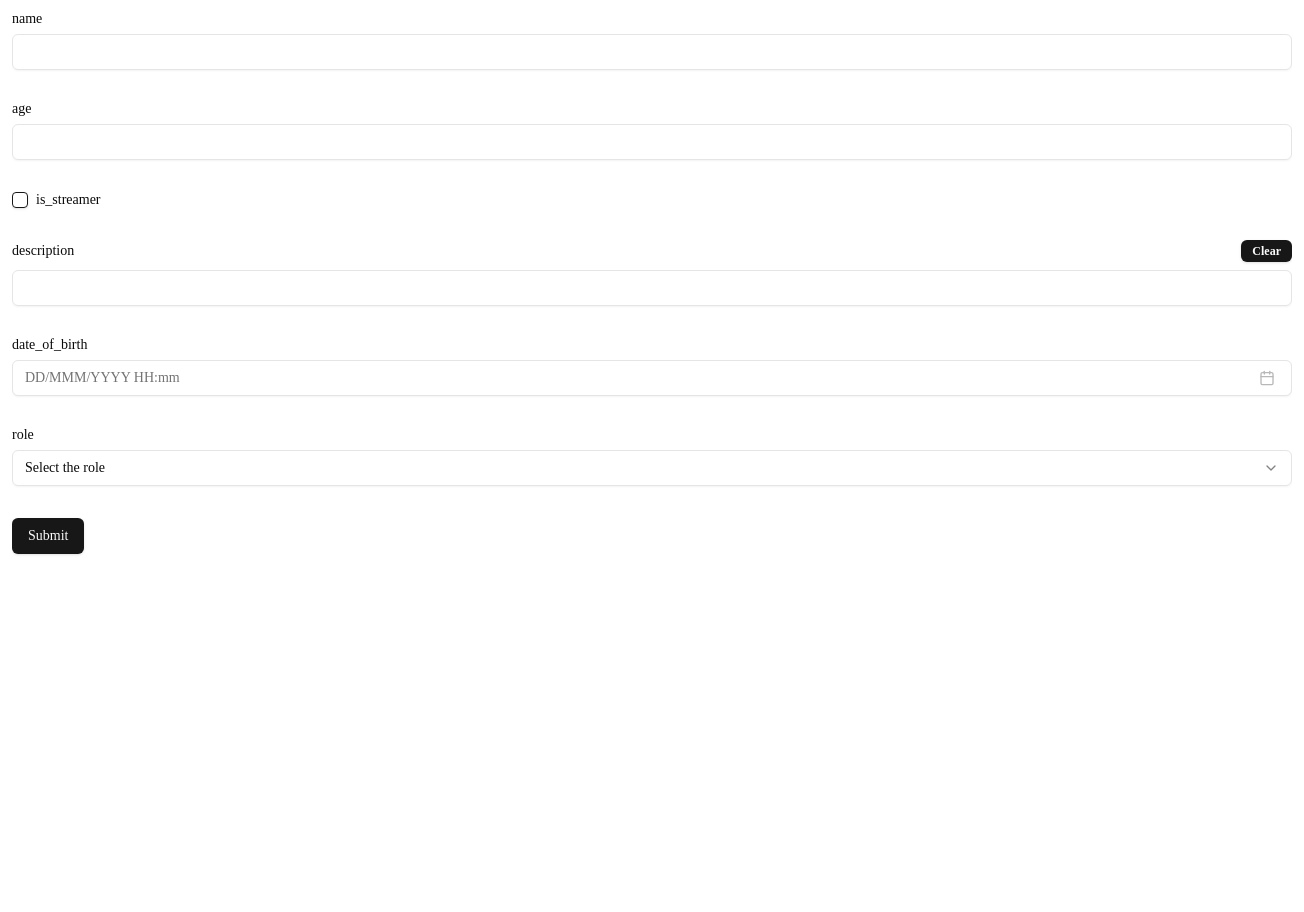
Test case: AutoForm component › should render validation errors when the form is submitted with invalid data
This screenshot has width=1304, height=912.
Click the button "Submit" at (48, 536), box [12,518,84,554]
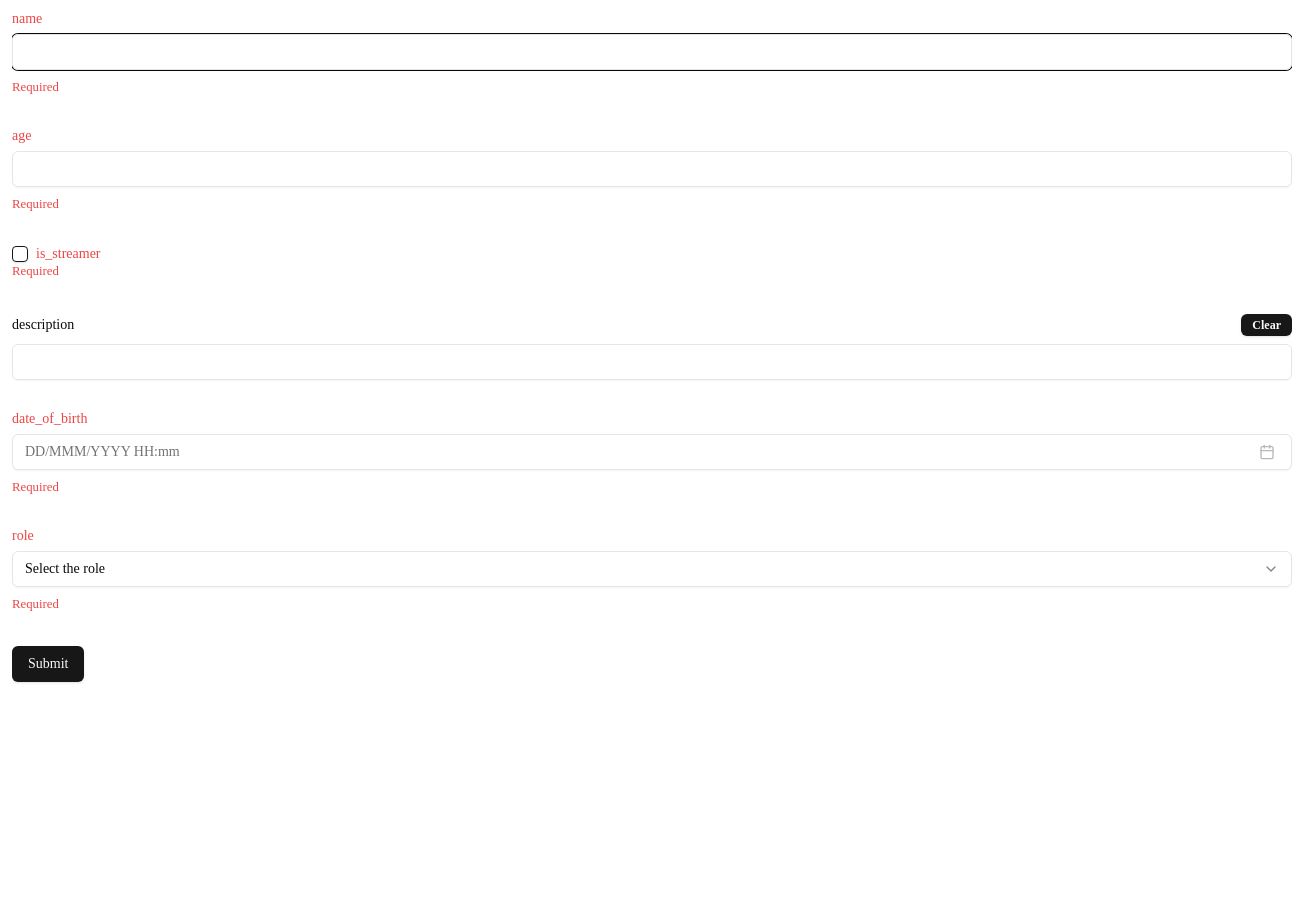
Result: the text with test id "name-error" is shown at [12,80,59,94]
Result: the text with test id "age-error" is shown at [12,197,59,211]
Result: the text with test id "is_streamer-error" is shown at [12,264,59,278]
